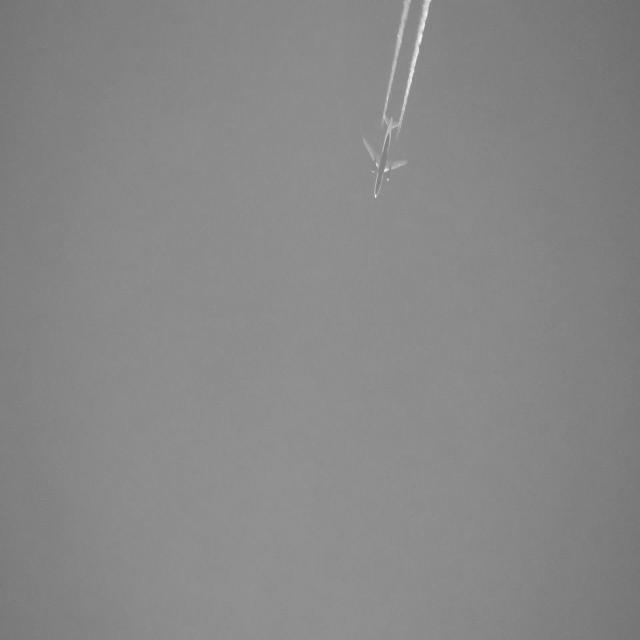aeroplane: (360, 103, 409, 215)
